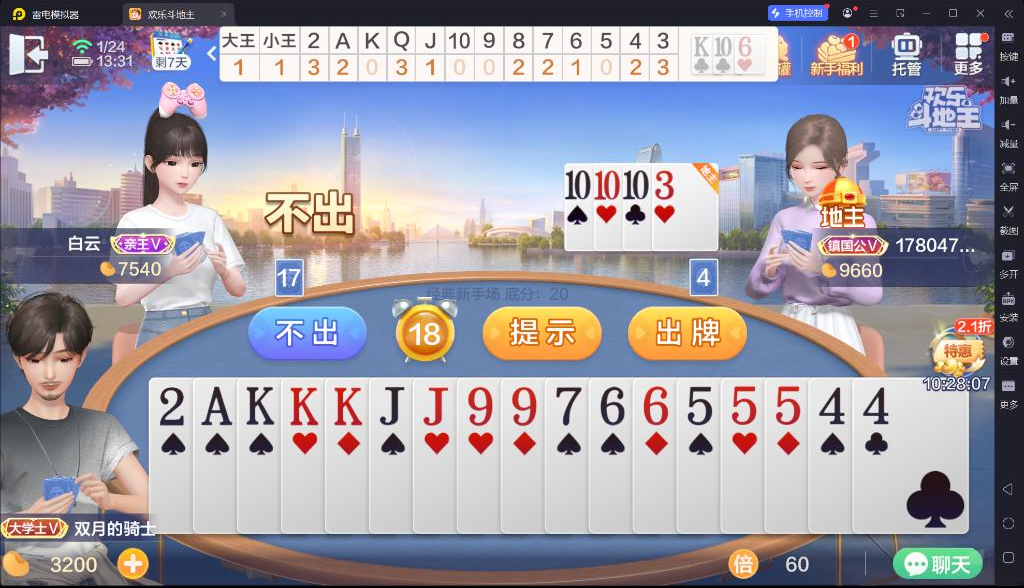A: (199, 384, 235, 427)
J: (374, 383, 408, 427), (419, 384, 451, 428)
K: (286, 384, 320, 428), (330, 384, 364, 428), (243, 384, 276, 428), (693, 35, 711, 57)
five: (682, 383, 716, 427), (727, 383, 759, 426), (771, 383, 803, 425)
four: (814, 384, 848, 426), (860, 384, 892, 427)
nine: (509, 382, 540, 428), (463, 384, 494, 428)
seven: (552, 382, 582, 428)
six: (596, 381, 627, 427), (640, 381, 670, 427), (736, 36, 754, 58)
ten: (622, 167, 650, 201), (564, 166, 591, 201), (593, 168, 620, 202), (713, 36, 733, 58)
three: (653, 167, 676, 201)
two: (156, 384, 188, 430)
